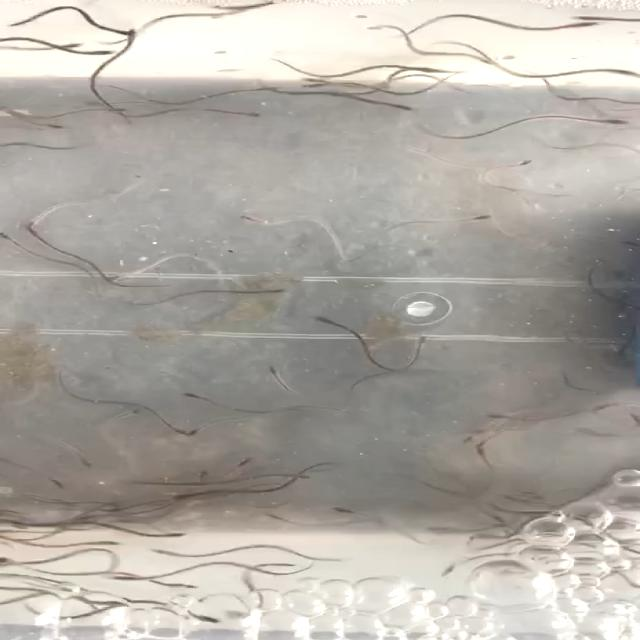active_glass_eel: (572, 110, 630, 126), (564, 253, 615, 271), (172, 486, 215, 505), (82, 101, 130, 118), (30, 118, 78, 134), (260, 363, 294, 385), (408, 334, 440, 357), (488, 158, 540, 172), (84, 492, 120, 512), (104, 567, 138, 588), (466, 431, 497, 454), (178, 388, 218, 405), (290, 71, 342, 84), (82, 594, 130, 608), (106, 406, 148, 422), (159, 424, 192, 444), (224, 455, 254, 477), (80, 538, 134, 550), (184, 606, 220, 624), (232, 108, 270, 125), (15, 217, 55, 233), (156, 526, 196, 542), (428, 558, 466, 574), (566, 17, 608, 31), (578, 6, 614, 22), (332, 496, 362, 515), (452, 428, 479, 449), (235, 210, 268, 227), (188, 419, 212, 442), (171, 578, 205, 594), (255, 509, 289, 525), (293, 538, 329, 553), (94, 28, 148, 38), (247, 284, 280, 300), (483, 405, 512, 423), (190, 2, 230, 15), (72, 453, 98, 473), (21, 223, 51, 240), (292, 80, 334, 92), (382, 100, 419, 113), (410, 63, 440, 79), (276, 471, 310, 485), (243, 82, 282, 94), (311, 314, 335, 333), (102, 270, 134, 284), (584, 65, 628, 75), (142, 548, 178, 560), (356, 22, 391, 34), (39, 472, 63, 489), (90, 47, 117, 62), (0, 230, 22, 246), (55, 39, 82, 51), (468, 213, 494, 224)
